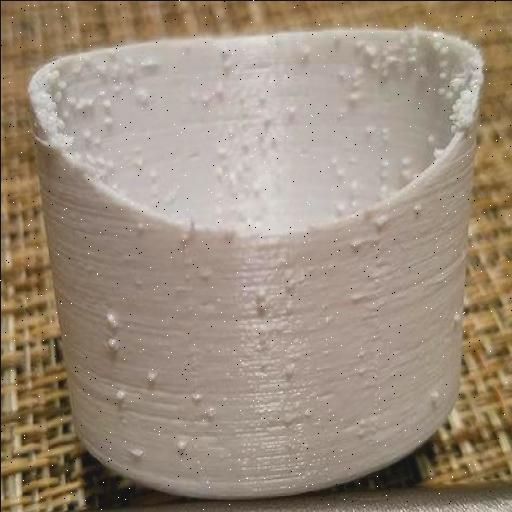blobs: (98, 296, 224, 472), (196, 74, 292, 190), (328, 41, 444, 122), (63, 48, 157, 146), (236, 266, 308, 332), (340, 234, 390, 305), (415, 385, 449, 409)
